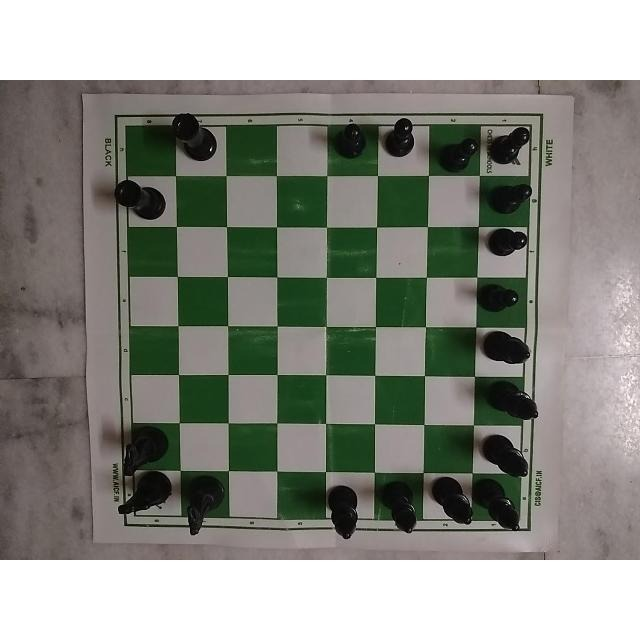black-bishop: (372, 469, 421, 546), (473, 475, 525, 541), (428, 473, 486, 531), (323, 477, 370, 547), (476, 332, 541, 380), (479, 437, 539, 483), (483, 386, 545, 428)
black-knight: (115, 469, 178, 529), (177, 468, 224, 539), (120, 423, 168, 485)
black-pawn: (377, 112, 421, 169), (477, 276, 525, 323), (490, 122, 540, 166), (484, 178, 538, 217), (484, 224, 534, 264), (333, 113, 370, 166), (438, 127, 480, 168)
black-rook: (164, 103, 224, 176), (109, 173, 171, 219)
